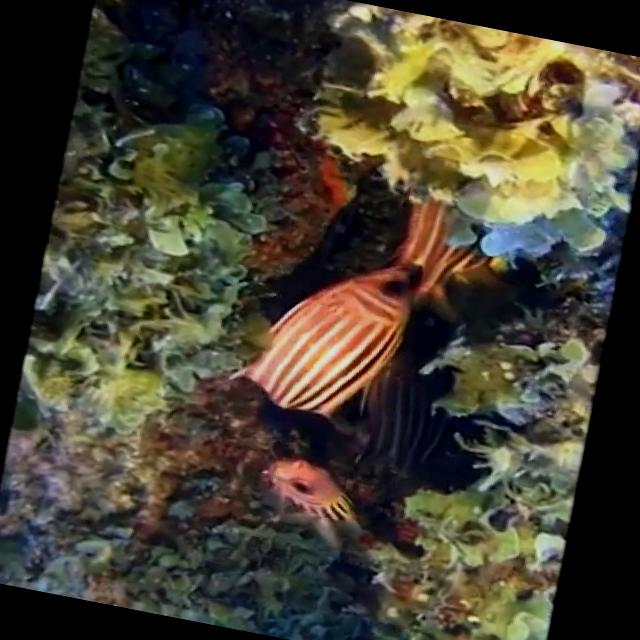Asker Baligi: (244, 250, 432, 465)
